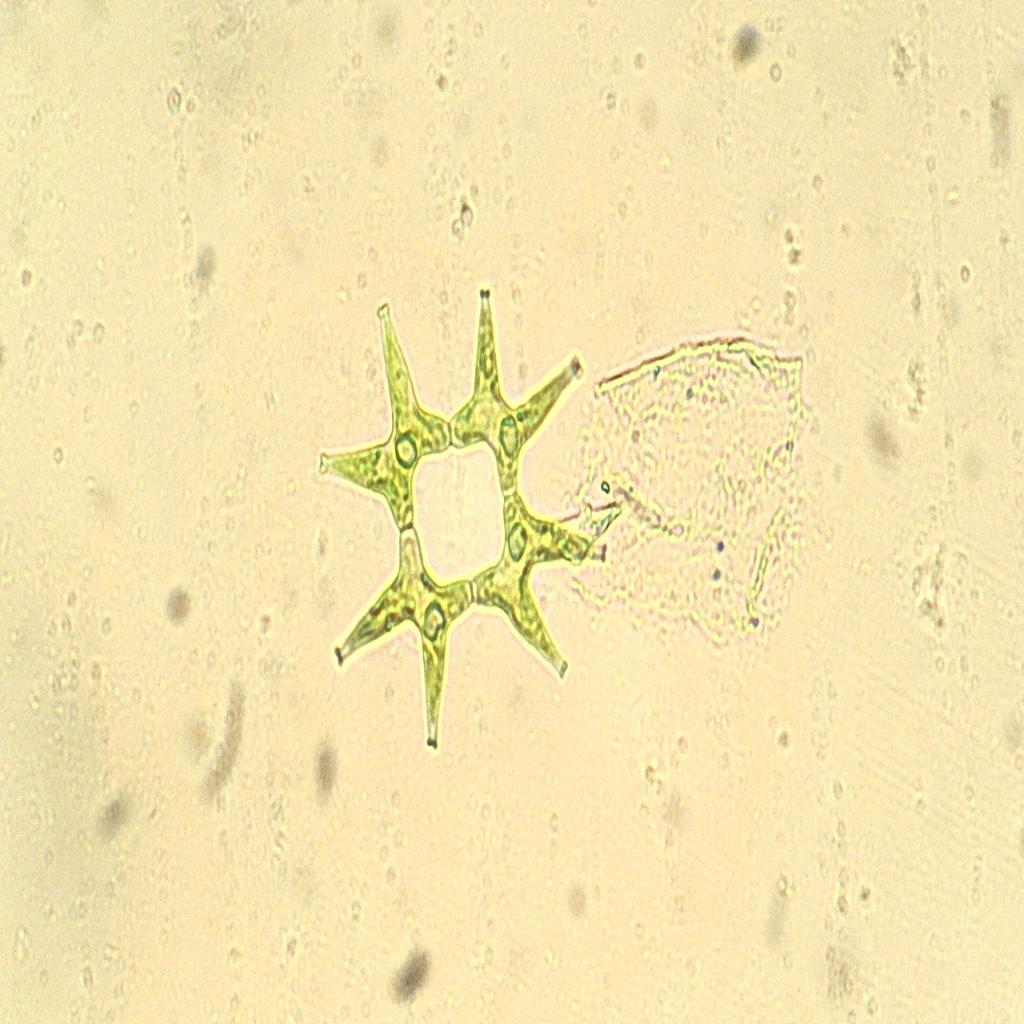Pediastrum_75O: (306, 254, 618, 769)
